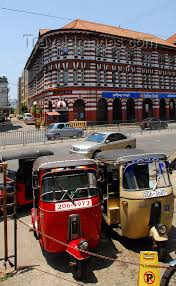tuk tuk: (30, 156, 104, 282), (106, 149, 174, 258), (1, 147, 27, 209)
